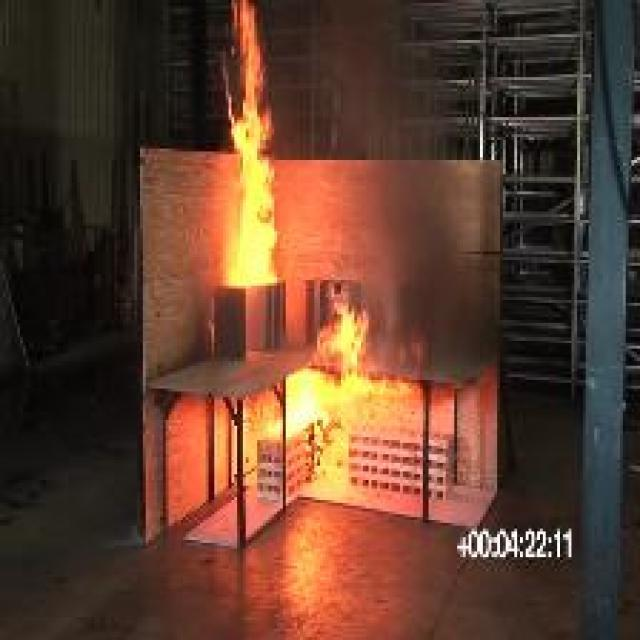Fire: (287, 288, 424, 468), (220, 0, 280, 286)
